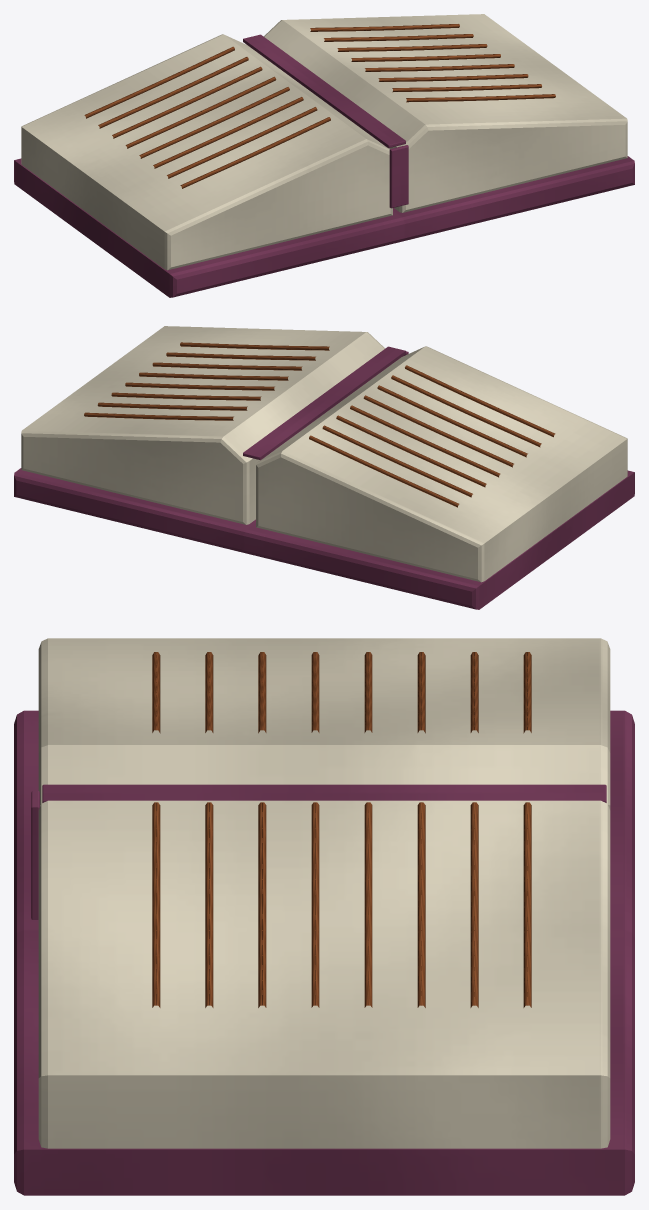
The model's file is hollowwick-halloween-open-ritual-grimoire-0fd9e423__21612.glb.
3 renders of one model, top to bottom at view 1: azimuth 30°, elevation 25°; view 2: azimuth 150°, elevation 25°; view 3: azimuth 270°, elevation 25°, orthographic. The views are drawn at different scales.
Parts seen in each view (by area): view 1: open-ritual-grimoire; view 2: open-ritual-grimoire; view 3: open-ritual-grimoire.
Part boxes in pixels (box(x1,y1,x2,y2)): open-ritual-grimoire: box(14, 14, 634, 297); open-ritual-grimoire: box(14, 326, 634, 609); open-ritual-grimoire: box(14, 638, 634, 1195).
Bounding box in the file's own units: 0.92 × 0.205 × 0.55.
3 materials, 3 textured.
